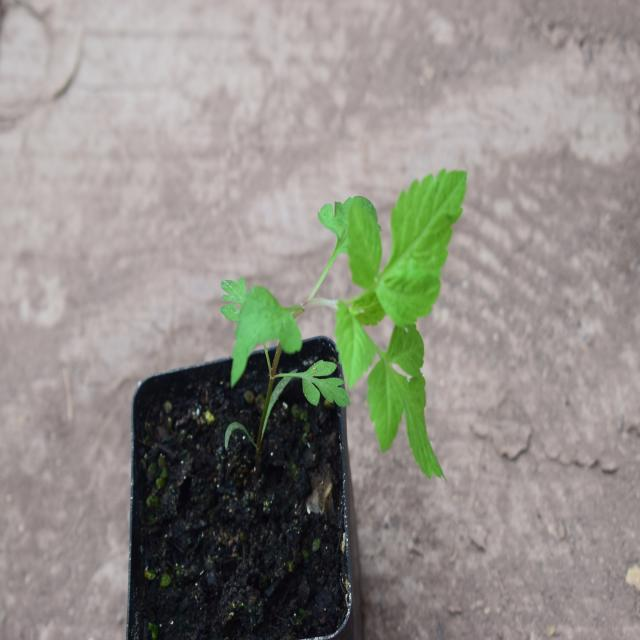Bidens pilosa: (209, 168, 480, 489)
